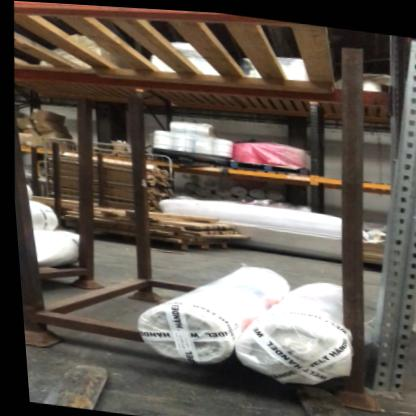vertical_damage: (354, 366, 412, 405)
